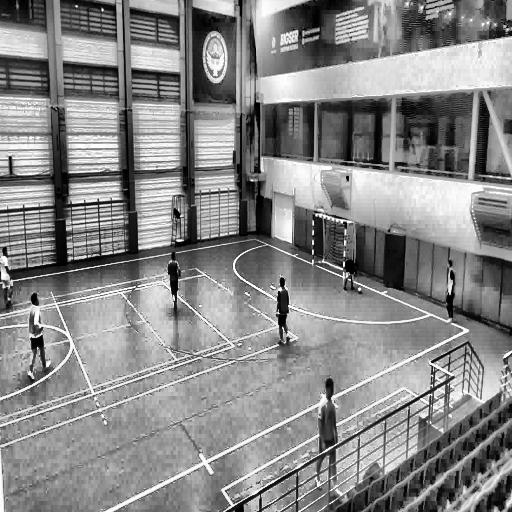ball: (357, 286, 364, 298)
player: (317, 378, 340, 498), (26, 291, 54, 382), (271, 274, 296, 346), (168, 251, 181, 313), (0, 246, 13, 305), (342, 255, 359, 295), (446, 257, 456, 318)
